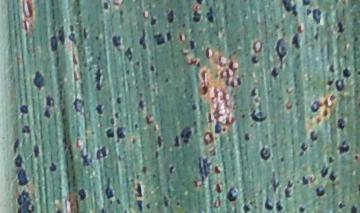tarspot: (211, 87, 236, 133), (191, 156, 213, 187), (309, 94, 338, 117), (16, 189, 36, 213), (275, 38, 287, 66), (78, 148, 94, 168), (102, 176, 115, 200), (249, 108, 268, 124), (227, 59, 237, 88), (33, 70, 46, 92), (180, 125, 193, 147), (16, 168, 31, 187), (281, 1, 300, 16), (225, 185, 240, 203), (200, 69, 210, 96), (151, 30, 165, 49), (183, 56, 203, 69), (56, 24, 67, 47), (138, 28, 149, 51), (269, 170, 280, 193), (110, 33, 124, 51), (259, 145, 273, 163), (262, 193, 274, 213), (20, 1, 34, 18), (72, 97, 85, 115), (67, 24, 78, 45), (93, 68, 103, 91), (219, 66, 230, 86), (48, 34, 58, 55), (95, 145, 110, 159), (115, 125, 126, 144), (337, 139, 350, 155), (251, 39, 264, 55), (11, 137, 23, 154), (333, 78, 346, 93), (312, 7, 322, 26), (191, 8, 202, 25), (17, 103, 31, 116), (291, 32, 301, 50), (335, 117, 347, 132), (202, 130, 214, 145), (134, 181, 144, 198), (336, 19, 346, 36), (77, 187, 88, 202), (94, 103, 105, 118), (122, 47, 133, 62), (205, 6, 214, 24), (312, 24, 322, 40), (148, 11, 158, 27), (13, 153, 24, 167), (42, 106, 53, 120), (45, 93, 55, 108), (270, 66, 280, 81), (204, 46, 214, 61), (166, 9, 175, 25), (315, 185, 327, 197), (105, 127, 116, 140), (328, 170, 339, 183), (319, 164, 329, 178), (32, 143, 41, 158), (135, 198, 144, 213), (70, 51, 79, 66), (206, 111, 215, 126), (341, 67, 352, 79), (309, 129, 319, 142), (300, 174, 310, 187), (21, 18, 30, 32), (144, 113, 155, 124), (275, 198, 283, 213), (48, 160, 57, 173), (328, 62, 337, 75), (177, 30, 186, 43), (166, 28, 173, 44), (192, 119, 199, 135), (20, 124, 30, 135), (249, 54, 258, 66), (214, 182, 223, 194), (250, 86, 259, 98), (173, 134, 180, 149), (156, 134, 164, 147), (284, 185, 292, 198), (349, 204, 360, 213), (162, 194, 169, 208), (188, 38, 196, 50), (304, 6, 312, 18), (300, 141, 308, 153), (137, 98, 145, 110), (327, 155, 336, 165), (314, 116, 323, 126), (336, 201, 347, 209), (243, 131, 251, 142), (148, 63, 156, 74), (114, 110, 122, 121), (108, 117, 116, 128), (235, 76, 243, 87), (72, 70, 80, 81), (82, 26, 88, 40), (189, 102, 198, 111), (115, 96, 123, 106), (325, 78, 335, 86), (242, 203, 250, 213), (213, 164, 221, 174), (117, 7, 125, 17), (285, 101, 293, 111), (140, 164, 148, 174), (285, 179, 294, 187), (115, 197, 122, 207), (352, 36, 360, 44), (73, 1, 81, 9), (124, 68, 132, 76), (102, 2, 109, 11), (168, 165, 175, 174), (296, 23, 303, 32), (298, 206, 307, 213), (144, 201, 151, 210), (133, 60, 142, 67), (130, 136, 137, 145), (273, 22, 280, 31), (253, 96, 260, 105), (154, 149, 160, 159), (352, 16, 359, 24), (174, 200, 181, 208), (95, 54, 102, 62), (301, 1, 310, 7), (150, 172, 157, 179), (81, 61, 88, 68), (99, 207, 107, 213), (279, 155, 285, 163), (240, 112, 246, 120), (280, 16, 286, 24), (353, 154, 360, 160), (133, 122, 139, 129), (93, 35, 100, 41), (54, 208, 62, 213), (180, 22, 185, 30), (195, 1, 204, 5), (163, 77, 169, 83), (281, 31, 286, 38), (357, 182, 360, 193), (356, 70, 360, 77), (333, 1, 340, 5), (122, 209, 127, 213)
